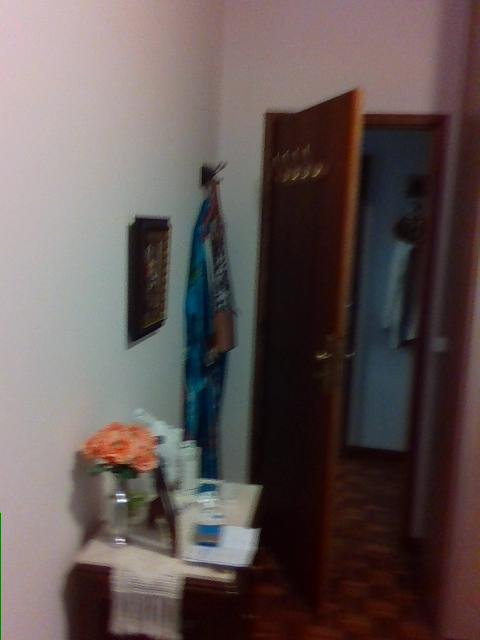semi_door: (250, 85, 451, 625)
